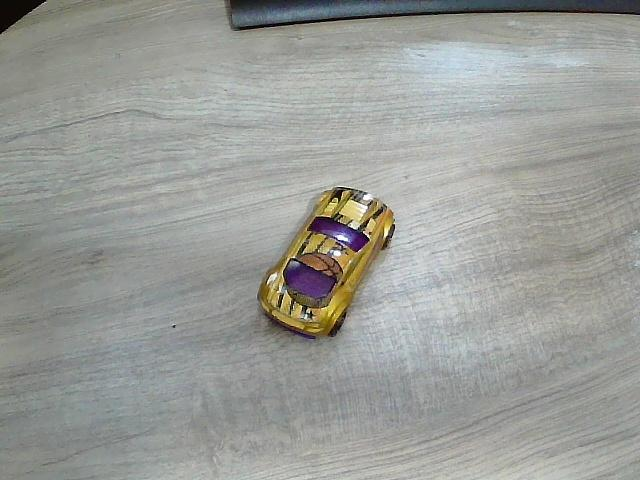Carro: (257, 187, 397, 341)
